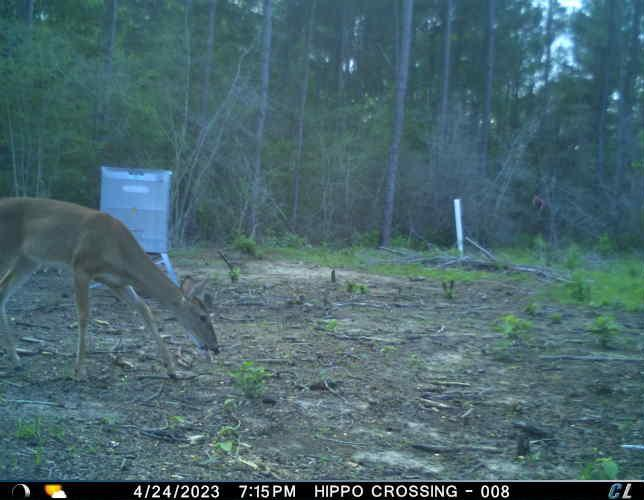Deer: (0, 193, 226, 392)
